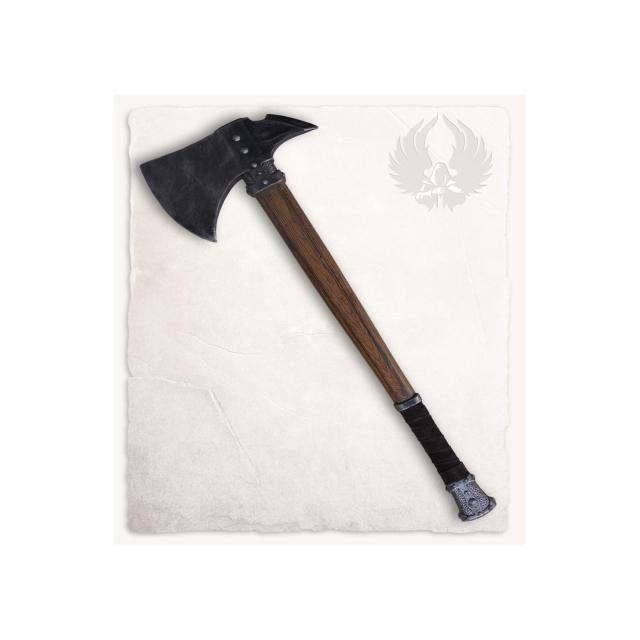Kapak: (146, 102, 505, 520)
